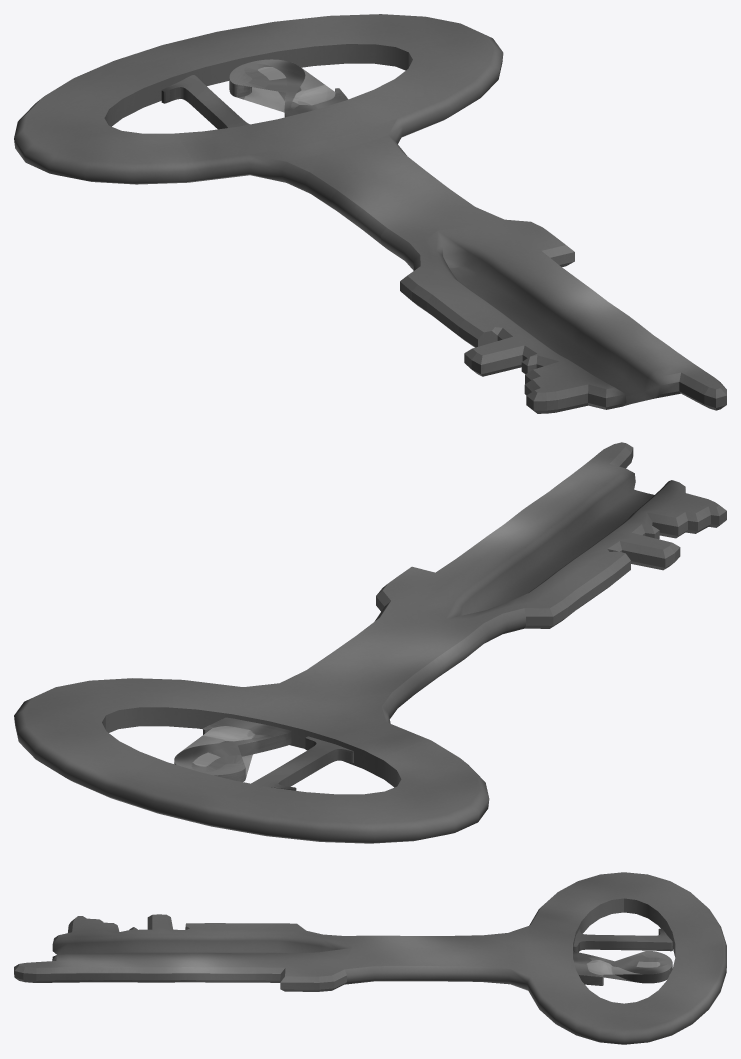
Rendered from extra_key_12.fbx.
3 views of the same model, one above another, from view 1: azimuth 30°, elevation 25°; view 2: azimuth 150°, elevation 25°; view 3: azimuth 270°, elevation 25° (orthographic). The views are drawn at different scales.
Parts seen in each view (by area): view 1: key_base, typeMesh2, typeMesh1; view 2: key_base, typeMesh2, typeMesh1; view 3: key_base, typeMesh2, typeMesh1.
Boxes of the visible parts, <box> form: key_base: <box>14,14,726,413</box>; typeMesh2: <box>229,59,348,117</box>; typeMesh1: <box>161,75,249,129</box>; key_base: <box>14,442,726,843</box>; typeMesh2: <box>174,717,291,781</box>; typeMesh1: <box>251,736,353,790</box>; key_base: <box>14,872,726,1044</box>; typeMesh2: <box>573,951,672,985</box>; typeMesh1: <box>573,928,672,952</box>.
Size of the model in its own units: 22.02 by 0.9801 by 40.42.
3 materials, 3 textured.
